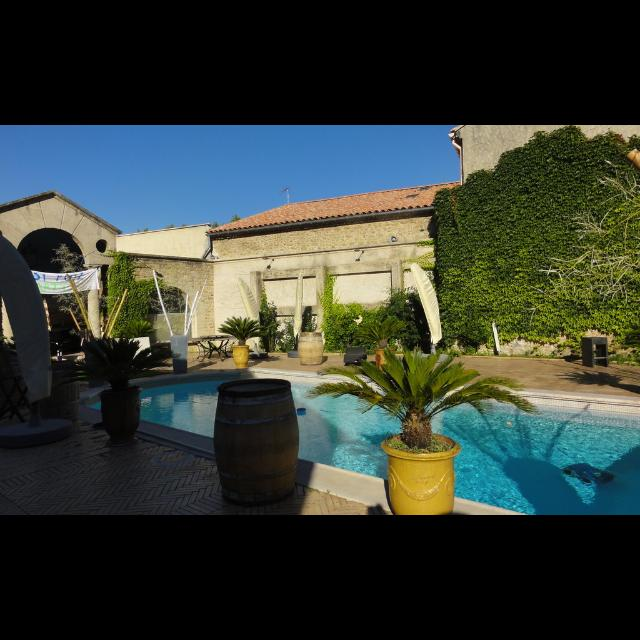Flower: (394, 338, 406, 354), (352, 314, 366, 326)
